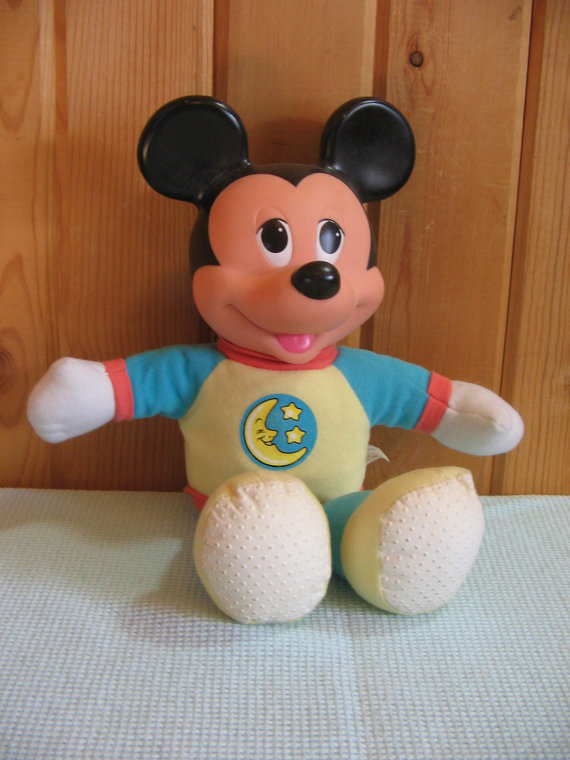Mickey: (139, 90, 418, 365)
